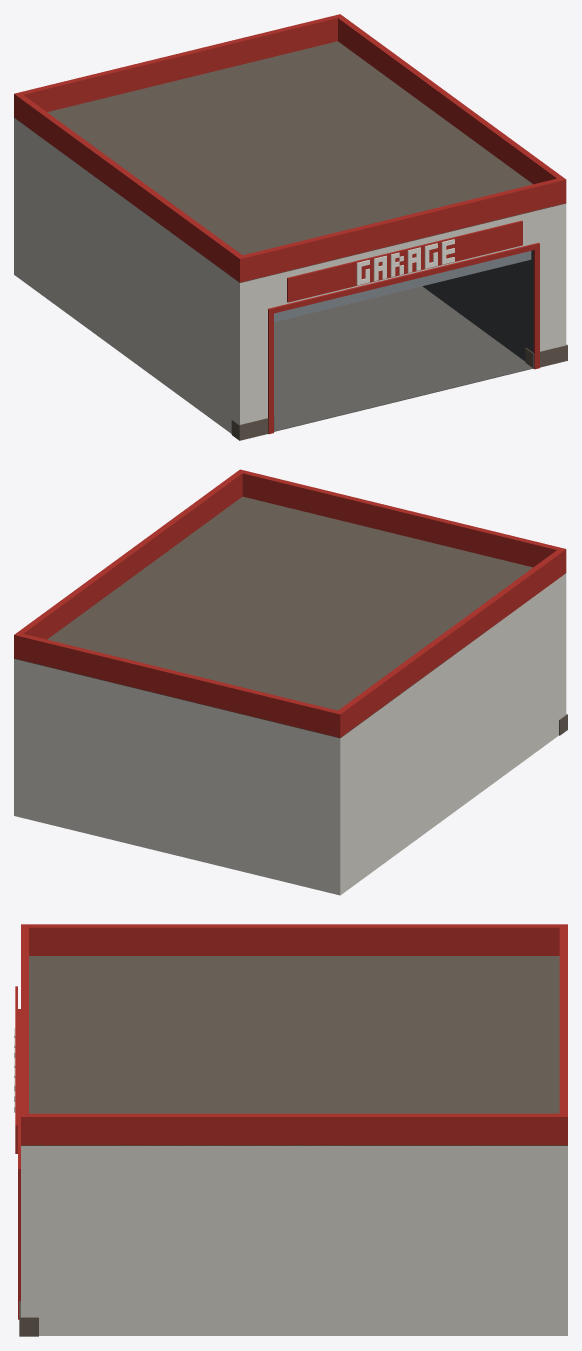
The model's file is bld_ot_garage.glb.
3 renders of one model, top to bottom at view 1: azimuth 30°, elevation 25°; view 2: azimuth 150°, elevation 25°; view 3: azimuth 270°, elevation 25°, orthographic. The views are drawn at different scales.
Parts seen in each view (by area): view 1: bld_ot_garage; view 2: bld_ot_garage; view 3: bld_ot_garage.
Boxes of the visible parts, x1,y1,x2,y2 form: bld_ot_garage: (14, 14, 567, 440); bld_ot_garage: (14, 469, 567, 895); bld_ot_garage: (14, 924, 567, 1336).
Size of what is drawn, in the model's own units: 10.06 by 5.3 by 12.15.
